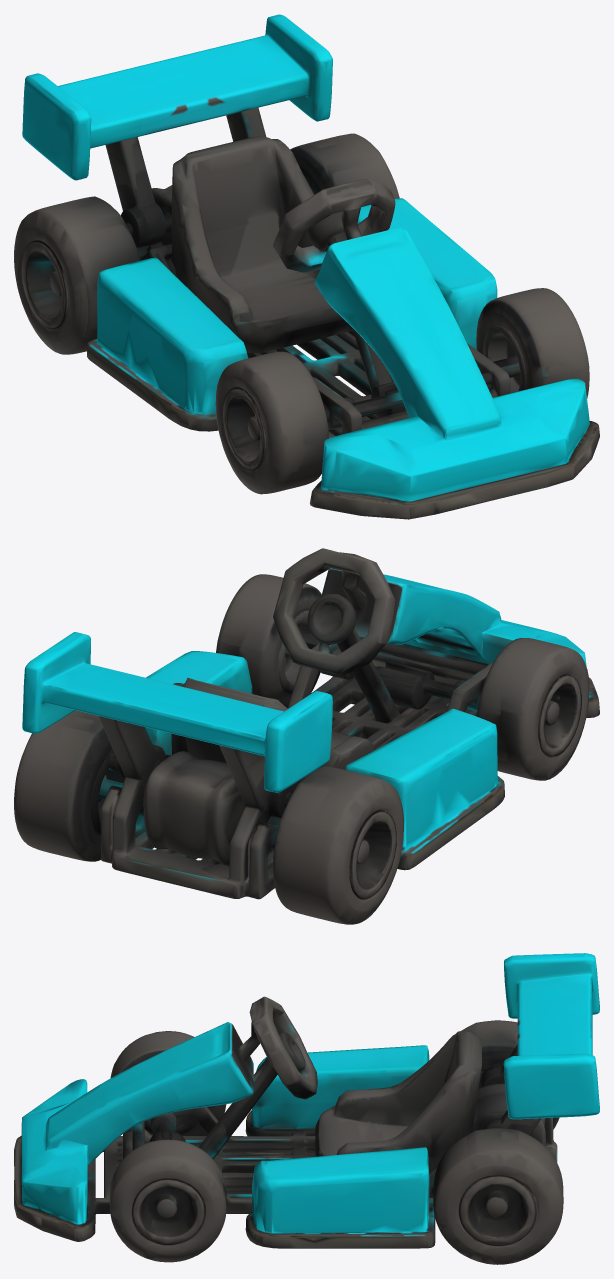
The model's file is wave3_arcade_race_car.glb.
The picture shows the model from 3 angles, top to bottom: view 1: azimuth 30°, elevation 25°; view 2: azimuth 150°, elevation 25°; view 3: azimuth 270°, elevation 25°; orthographic projection. The views are drawn at different scales.
Visible parts, largest first — view 1: node_0; view 2: node_0; view 3: node_0.
Part boxes in pixels (x1,y1,x2,y2): node_0: [14, 14, 599, 519]; node_0: [14, 548, 599, 924]; node_0: [14, 953, 599, 1264].
Bounding box in the file's own units: 0.5912 × 0.3901 × 1.06.
Materials: 1 (1 with a texture image).
